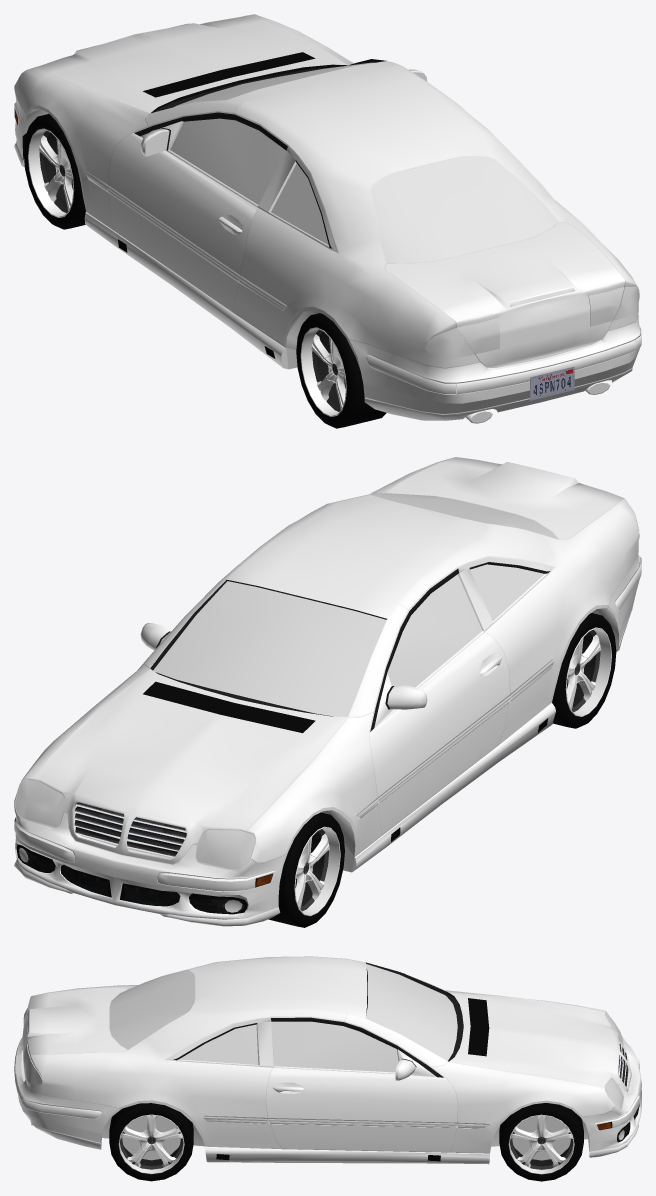
File: va_mbz_cl500_04.glb
3 views of the same model, one above another, from view 1: azimuth 30°, elevation 25°; view 2: azimuth 150°, elevation 25°; view 3: azimuth 270°, elevation 25° (orthographic). The views are drawn at different scales.
Visible parts, largest first — view 1: va_mbz_cl500_04/resources/vehicle/va_mbz_cl500_04/body_lod_0 (×6); view 2: va_mbz_cl500_04/resources/vehicle/va_mbz_cl500_04/body_lod_0 (×6); view 3: va_mbz_cl500_04/resources/vehicle/va_mbz_cl500_04/body_lod_0 (×6).
Boxes of the visible parts, x1=… form: va_mbz_cl500_04/resources/vehicle/va_mbz_cl500_04/body_lod_0 (×6): x1=14, y1=14, x2=641, y2=428; va_mbz_cl500_04/resources/vehicle/va_mbz_cl500_04/body_lod_0 (×6): x1=14, y1=457, x2=641, y2=927; va_mbz_cl500_04/resources/vehicle/va_mbz_cl500_04/body_lod_0 (×6): x1=14, y1=956, x2=641, y2=1181.
Bounding box in the file's own units: 1.9 × 1.39 × 5.07.
11 materials, 7 textured.
